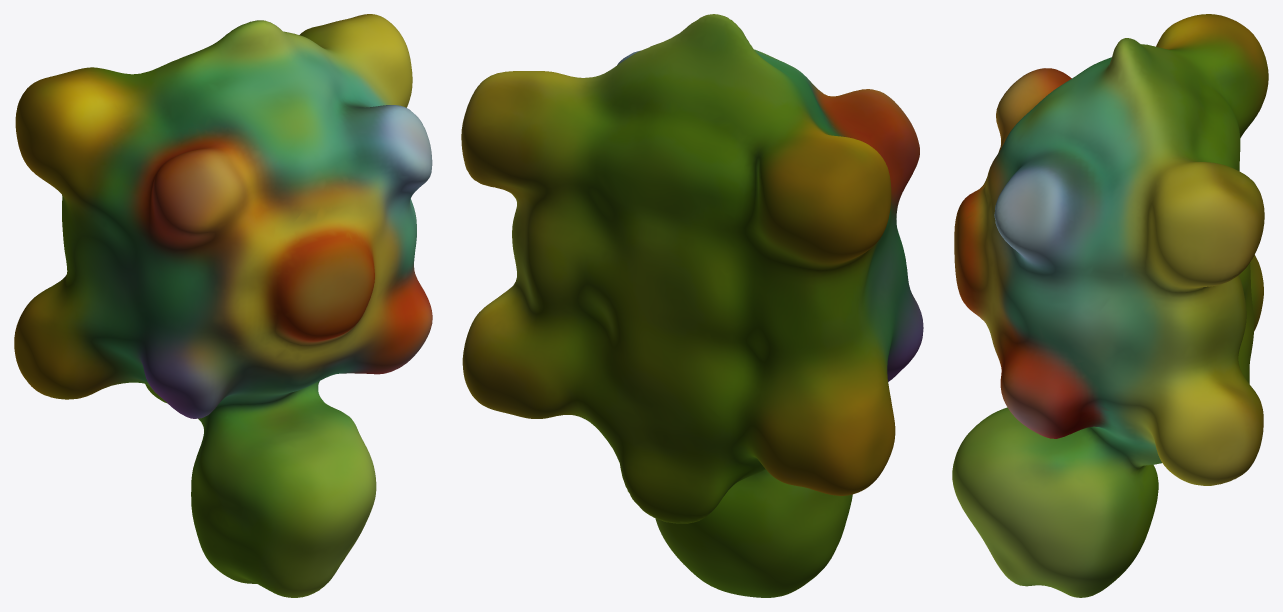
The model's file is turtle.glb.
3 renders of one model, left to right at view 1: azimuth 30°, elevation 25°; view 2: azimuth 150°, elevation 25°; view 3: azimuth 270°, elevation 25°, orthographic. The views are drawn at different scales.
Bounding box in the file's own units: 0.7182 × 0.9991 × 0.5228.
